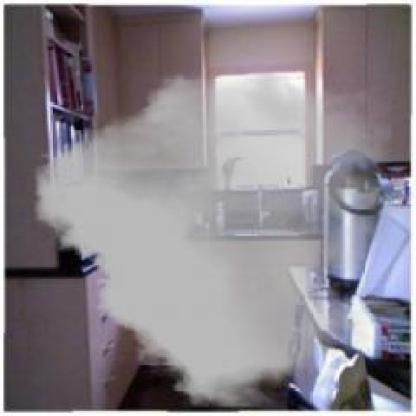Smoke: (35, 69, 391, 406)
